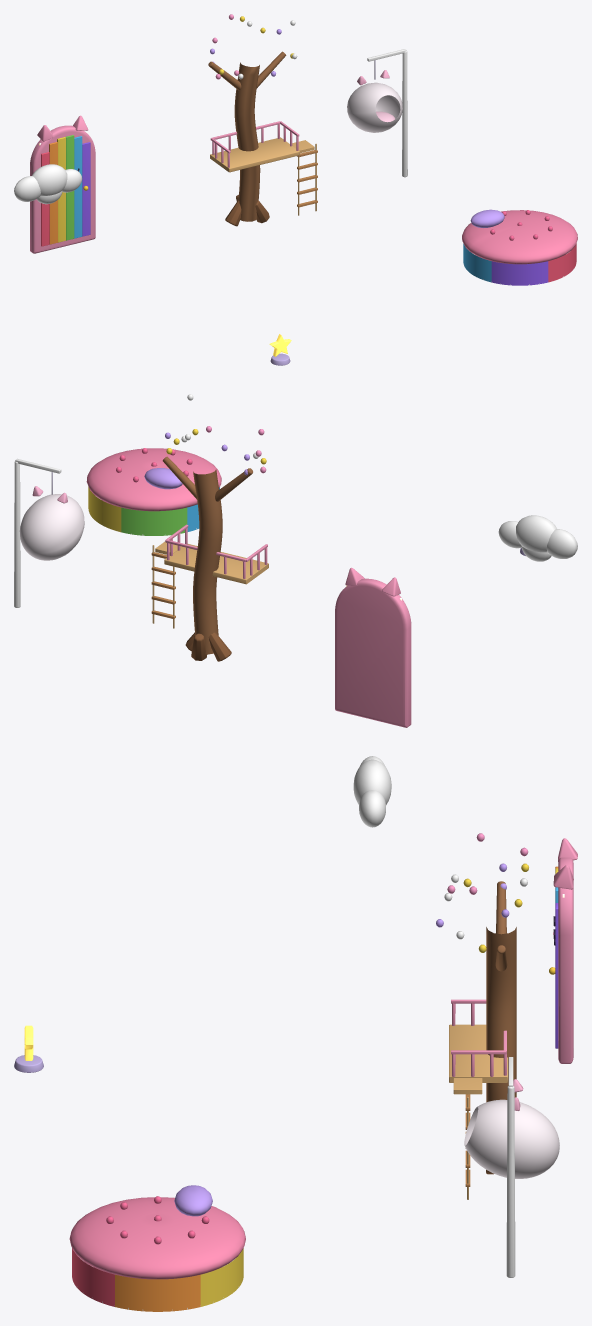
Rendered from decor-pillow.glb.
3 renders of one model, top to bottom at view 1: azimuth 30°, elevation 25°; view 2: azimuth 150°, elevation 25°; view 3: azimuth 270°, elevation 25°, orthographic. The views are drawn at different scales.
Visible parts, largest first — view 1: decor-item-pouf-bed-mesh, decor-item-tree-house-mesh, part-door-mesh, decor-item-cat-door-mesh, swing-seat-mesh, decor-item-sleep-cloud-mesh, decor-item-egg-chair-mesh, part-pillow-mesh, decor-item-night-star-mesh; view 2: decor-item-cat-door-mesh, decor-item-tree-house-mesh, decor-item-pouf-bed-mesh, swing-seat-mesh, decor-item-sleep-cloud-mesh, decor-item-egg-chair-mesh, part-pillow-mesh; view 3: decor-item-pouf-bed-mesh, decor-item-tree-house-mesh, swing-seat-mesh, decor-item-cat-door-mesh, decor-item-sleep-cloud-mesh, decor-item-egg-chair-mesh, part-pillow-mesh, part-door-mesh, decor-item-night-star-mesh.
Part boxes in pixels (x1,y1,x2,y2): decor-item-pouf-bed-mesh: (462,210,577,285); decor-item-tree-house-mesh: (208,14,317,226); part-door-mesh: (41,135,90,246); decor-item-cat-door-mesh: (30,115,95,253); swing-seat-mesh: (347,60,402,132); decor-item-sleep-cloud-mesh: (14,164,82,204); decor-item-egg-chair-mesh: (367,49,407,177); part-pillow-mesh: (470,209,504,228); decor-item-night-star-mesh: (269,334,291,365); decor-item-cat-door-mesh: (335,567,411,727); decor-item-tree-house-mesh: (151,394,268,661); decor-item-pouf-bed-mesh: (86,448,221,535); swing-seat-mesh: (19,472,84,560); decor-item-sleep-cloud-mesh: (498,515,577,561); decor-item-egg-chair-mesh: (14,458,61,607); part-pillow-mesh: (144,468,182,489); decor-item-pouf-bed-mesh: (69,1196,245,1311); decor-item-tree-house-mesh: (436,833,528,1199); swing-seat-mesh: (464,1079,559,1178); decor-item-cat-door-mesh: (553,838,577,1063); decor-item-sleep-cloud-mesh: (353,756,391,827); decor-item-egg-chair-mesh: (506,1057,515,1277); part-pillow-mesh: (174,1185,212,1216); part-door-mesh: (549,866,558,1048); decor-item-night-star-mesh: (14,1025,43,1072).
Bounding box in the file's own units: 16.02 × 6.53 × 10.64.
